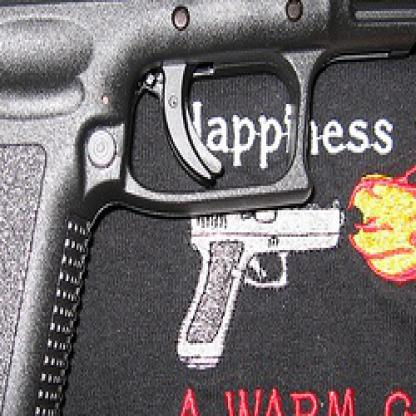gun: (0, 0, 415, 415), (178, 192, 348, 372)
